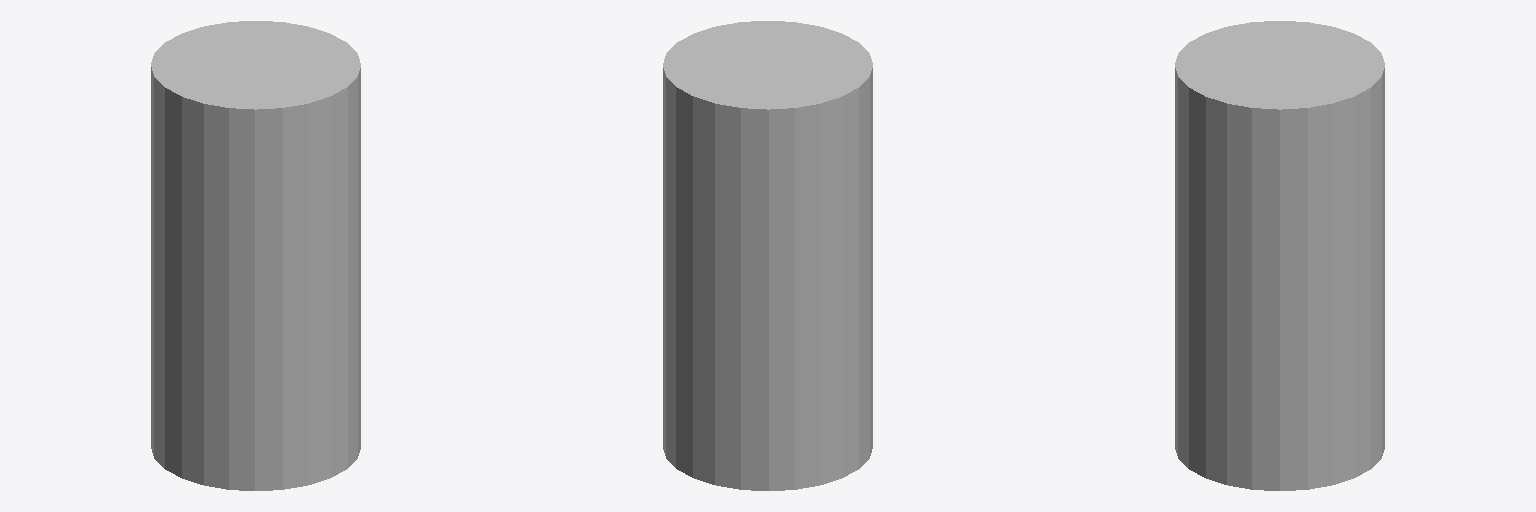
File: magnet.obj
3 renders of one model, left to right at view 1: azimuth 30°, elevation 25°; view 2: azimuth 150°, elevation 25°; view 3: azimuth 270°, elevation 25°, orthographic.
Visible parts, largest first — view 1: Cylinder001; view 2: Cylinder001; view 3: Cylinder001.
Part boxes in pixels (bbox=[...]): Cylinder001: bbox=[151, 21, 360, 490]; Cylinder001: bbox=[663, 21, 872, 490]; Cylinder001: bbox=[1175, 21, 1384, 490].
Bounding box in the file's own units: 0.2 × 0.4 × 0.2.